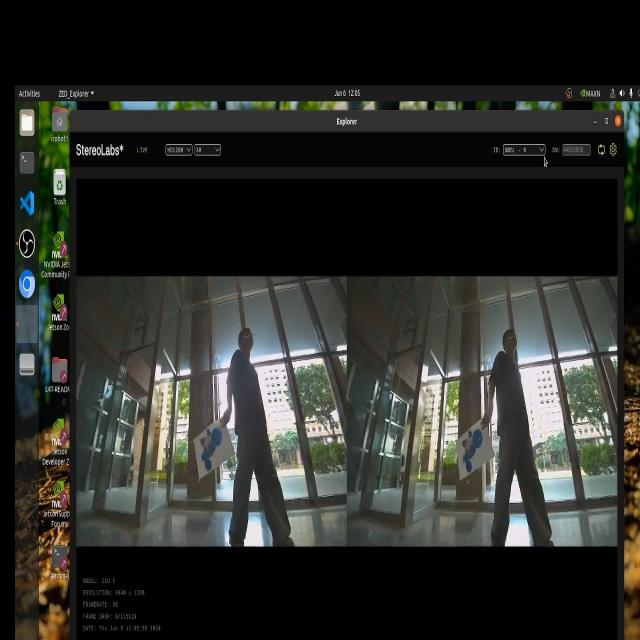blue: (181, 419, 230, 467), (457, 415, 485, 469)
